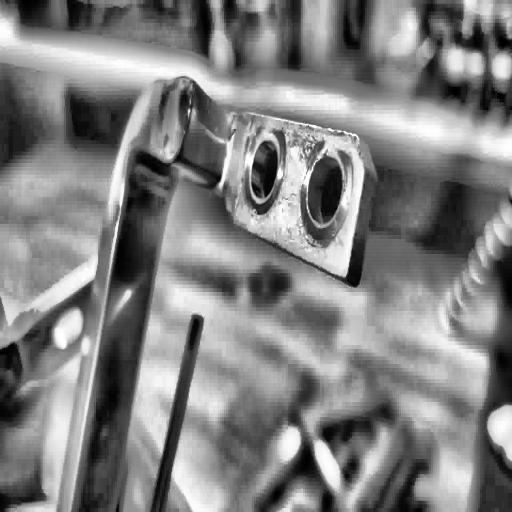busbar: (46, 68, 368, 512)
